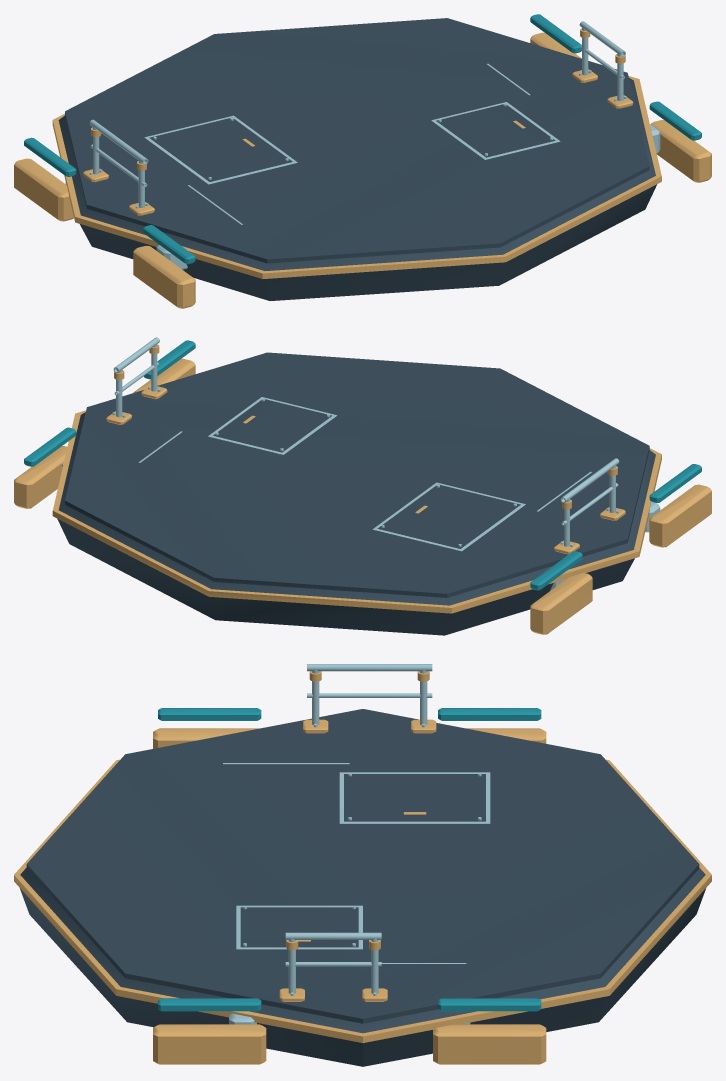
The model's file is SuspendedIsland.glb.
3 renders of one model, top to bottom at view 1: azimuth 30°, elevation 25°; view 2: azimuth 150°, elevation 25°; view 3: azimuth 270°, elevation 25°, orthographic. The views are drawn at different scales.
Visible parts, largest first — view 1: island; view 2: island; view 3: island.
Part boxes in pixels (x1=…): island: x1=14, y1=14, x2=711, y2=308; island: x1=14, y1=337, x2=711, y2=635; island: x1=14, y1=664, x2=711, y2=1066.
Bounding box in the file's own units: 11.48 × 2.19 × 10.46.
